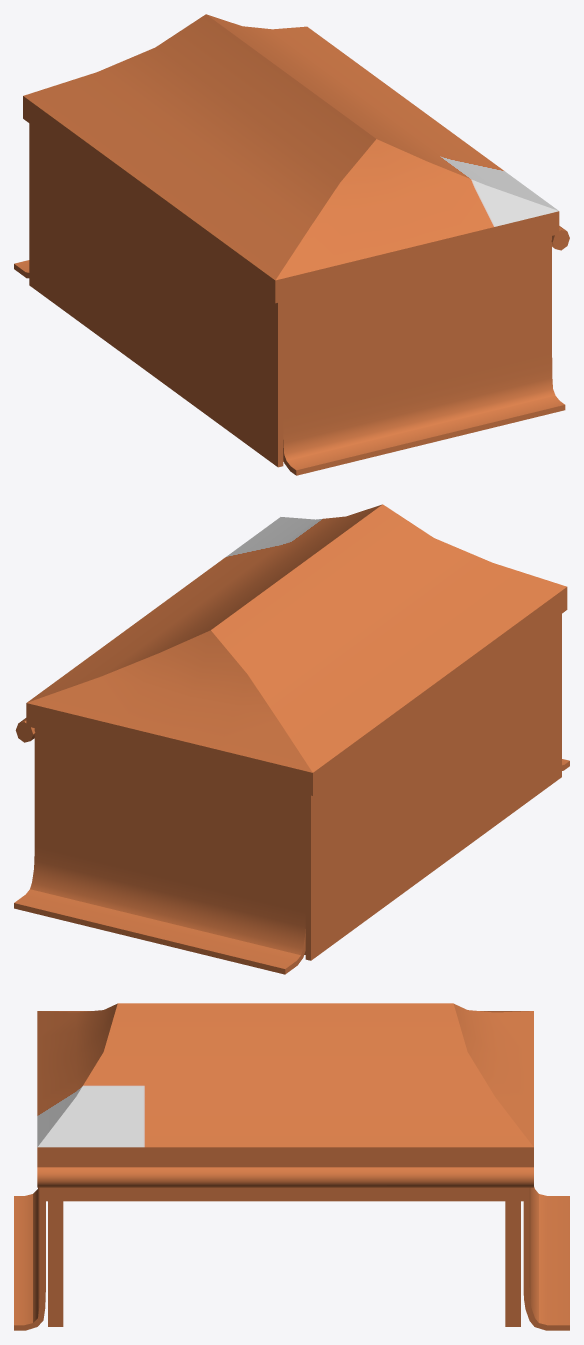
The model's file is fbx_pocha.fbx.
The picture shows the model from 3 angles, top to bottom: view 1: azimuth 30°, elevation 25°; view 2: azimuth 150°, elevation 25°; view 3: azimuth 270°, elevation 25°; orthographic projection. The views are drawn at different scales.
Parts seen in each view (by area): view 1: fbx_pocha; view 2: fbx_pocha; view 3: fbx_pocha.
Boxes of the visible parts, x1=… form: fbx_pocha: x1=14, y1=14, x2=569, y2=475; fbx_pocha: x1=14, y1=504, x2=569, y2=974; fbx_pocha: x1=14, y1=1003, x2=569, y2=1330.
Bounding box in the file's own units: 5.57 × 4.8 × 9.25.
1 material, 1 textured.
